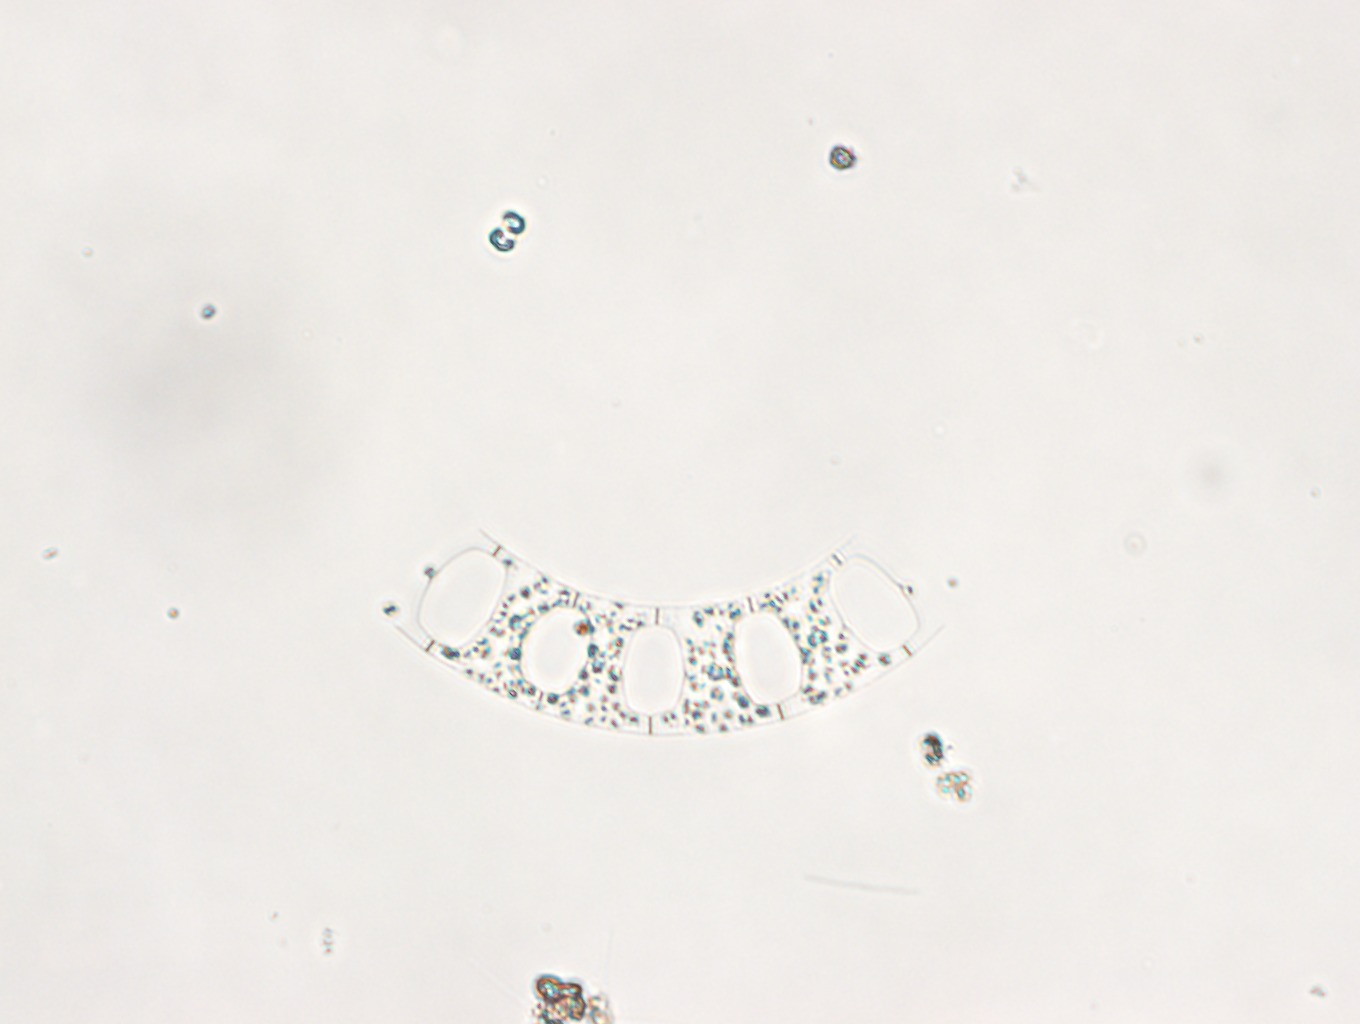eucampia: (386, 516, 943, 738)
